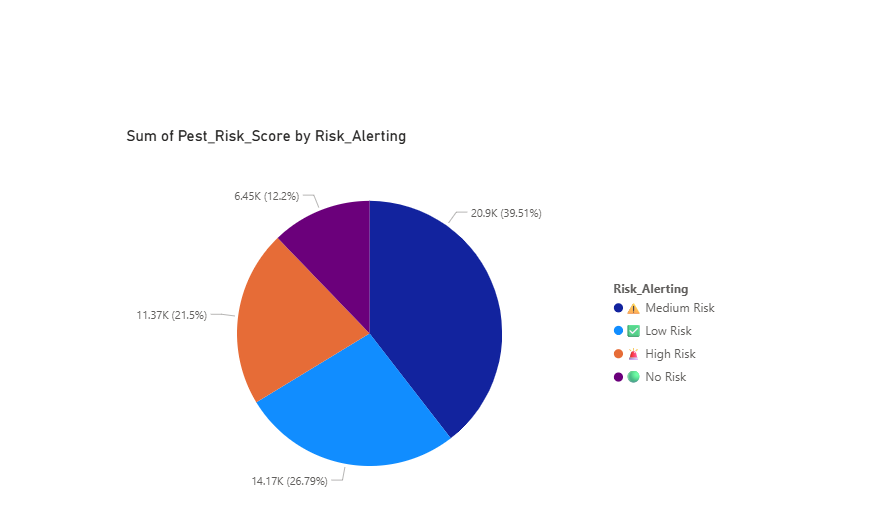

What the dashboard file says about the page in this screenshot:
{"tool":"powerbi","page":{"name":"Risk alert","canvas":[1280,720],"ordinal":4},"visuals":[{"type":"pieChart","fields":{"Category":["cleaned_maize_data.Risk_Alerting"],"Y":["Sum(cleaned_maize_data.Pest_Risk_Score)"]},"box":[289.5,251.1,665.5,435],"z":0}]}

Visuals, with their boxes on the page's 1280x720 design canvas (x1, y1, x2, y2). These are canvas units, not pixel positions in the 876x532 screenshot, which may show the page scaled, cropped or inside an application window:
pieChart - cleaned_maize_data.Risk_Alerting x Sum(cleaned_maize_data.Pest_Risk_Score): (left=290, top=251, right=955, bottom=686)
